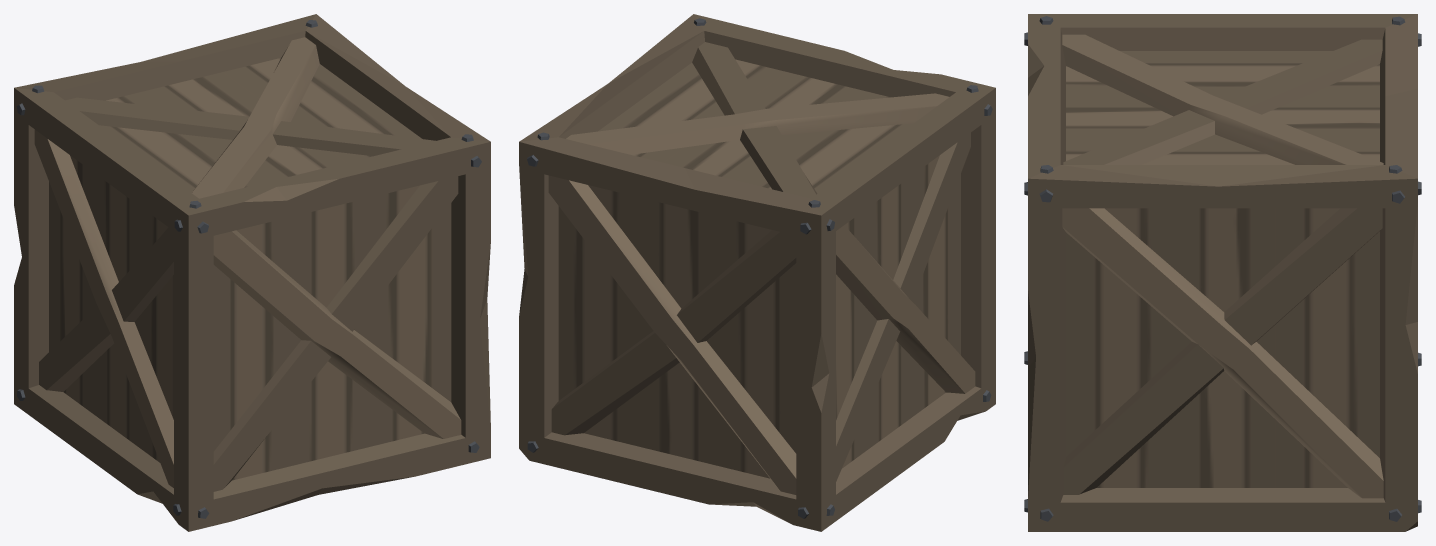
Rendered from SM_Prop_Crate_Cube_02.fbx.
3 renders of one model, left to right at view 1: azimuth 30°, elevation 25°; view 2: azimuth 150°, elevation 25°; view 3: azimuth 270°, elevation 25°, orthographic. The views are drawn at different scales.
Parts seen in each view (by area): view 1: SM_Prop_Crate_Cube_02; view 2: SM_Prop_Crate_Cube_02; view 3: SM_Prop_Crate_Cube_02.
Part boxes in pixels (box(x1,y1,x2,y2)): SM_Prop_Crate_Cube_02: box(14, 14, 490, 531); SM_Prop_Crate_Cube_02: box(519, 14, 995, 531); SM_Prop_Crate_Cube_02: box(1024, 14, 1421, 531).
Size of the model in its own units: 185 by 185 by 185.
